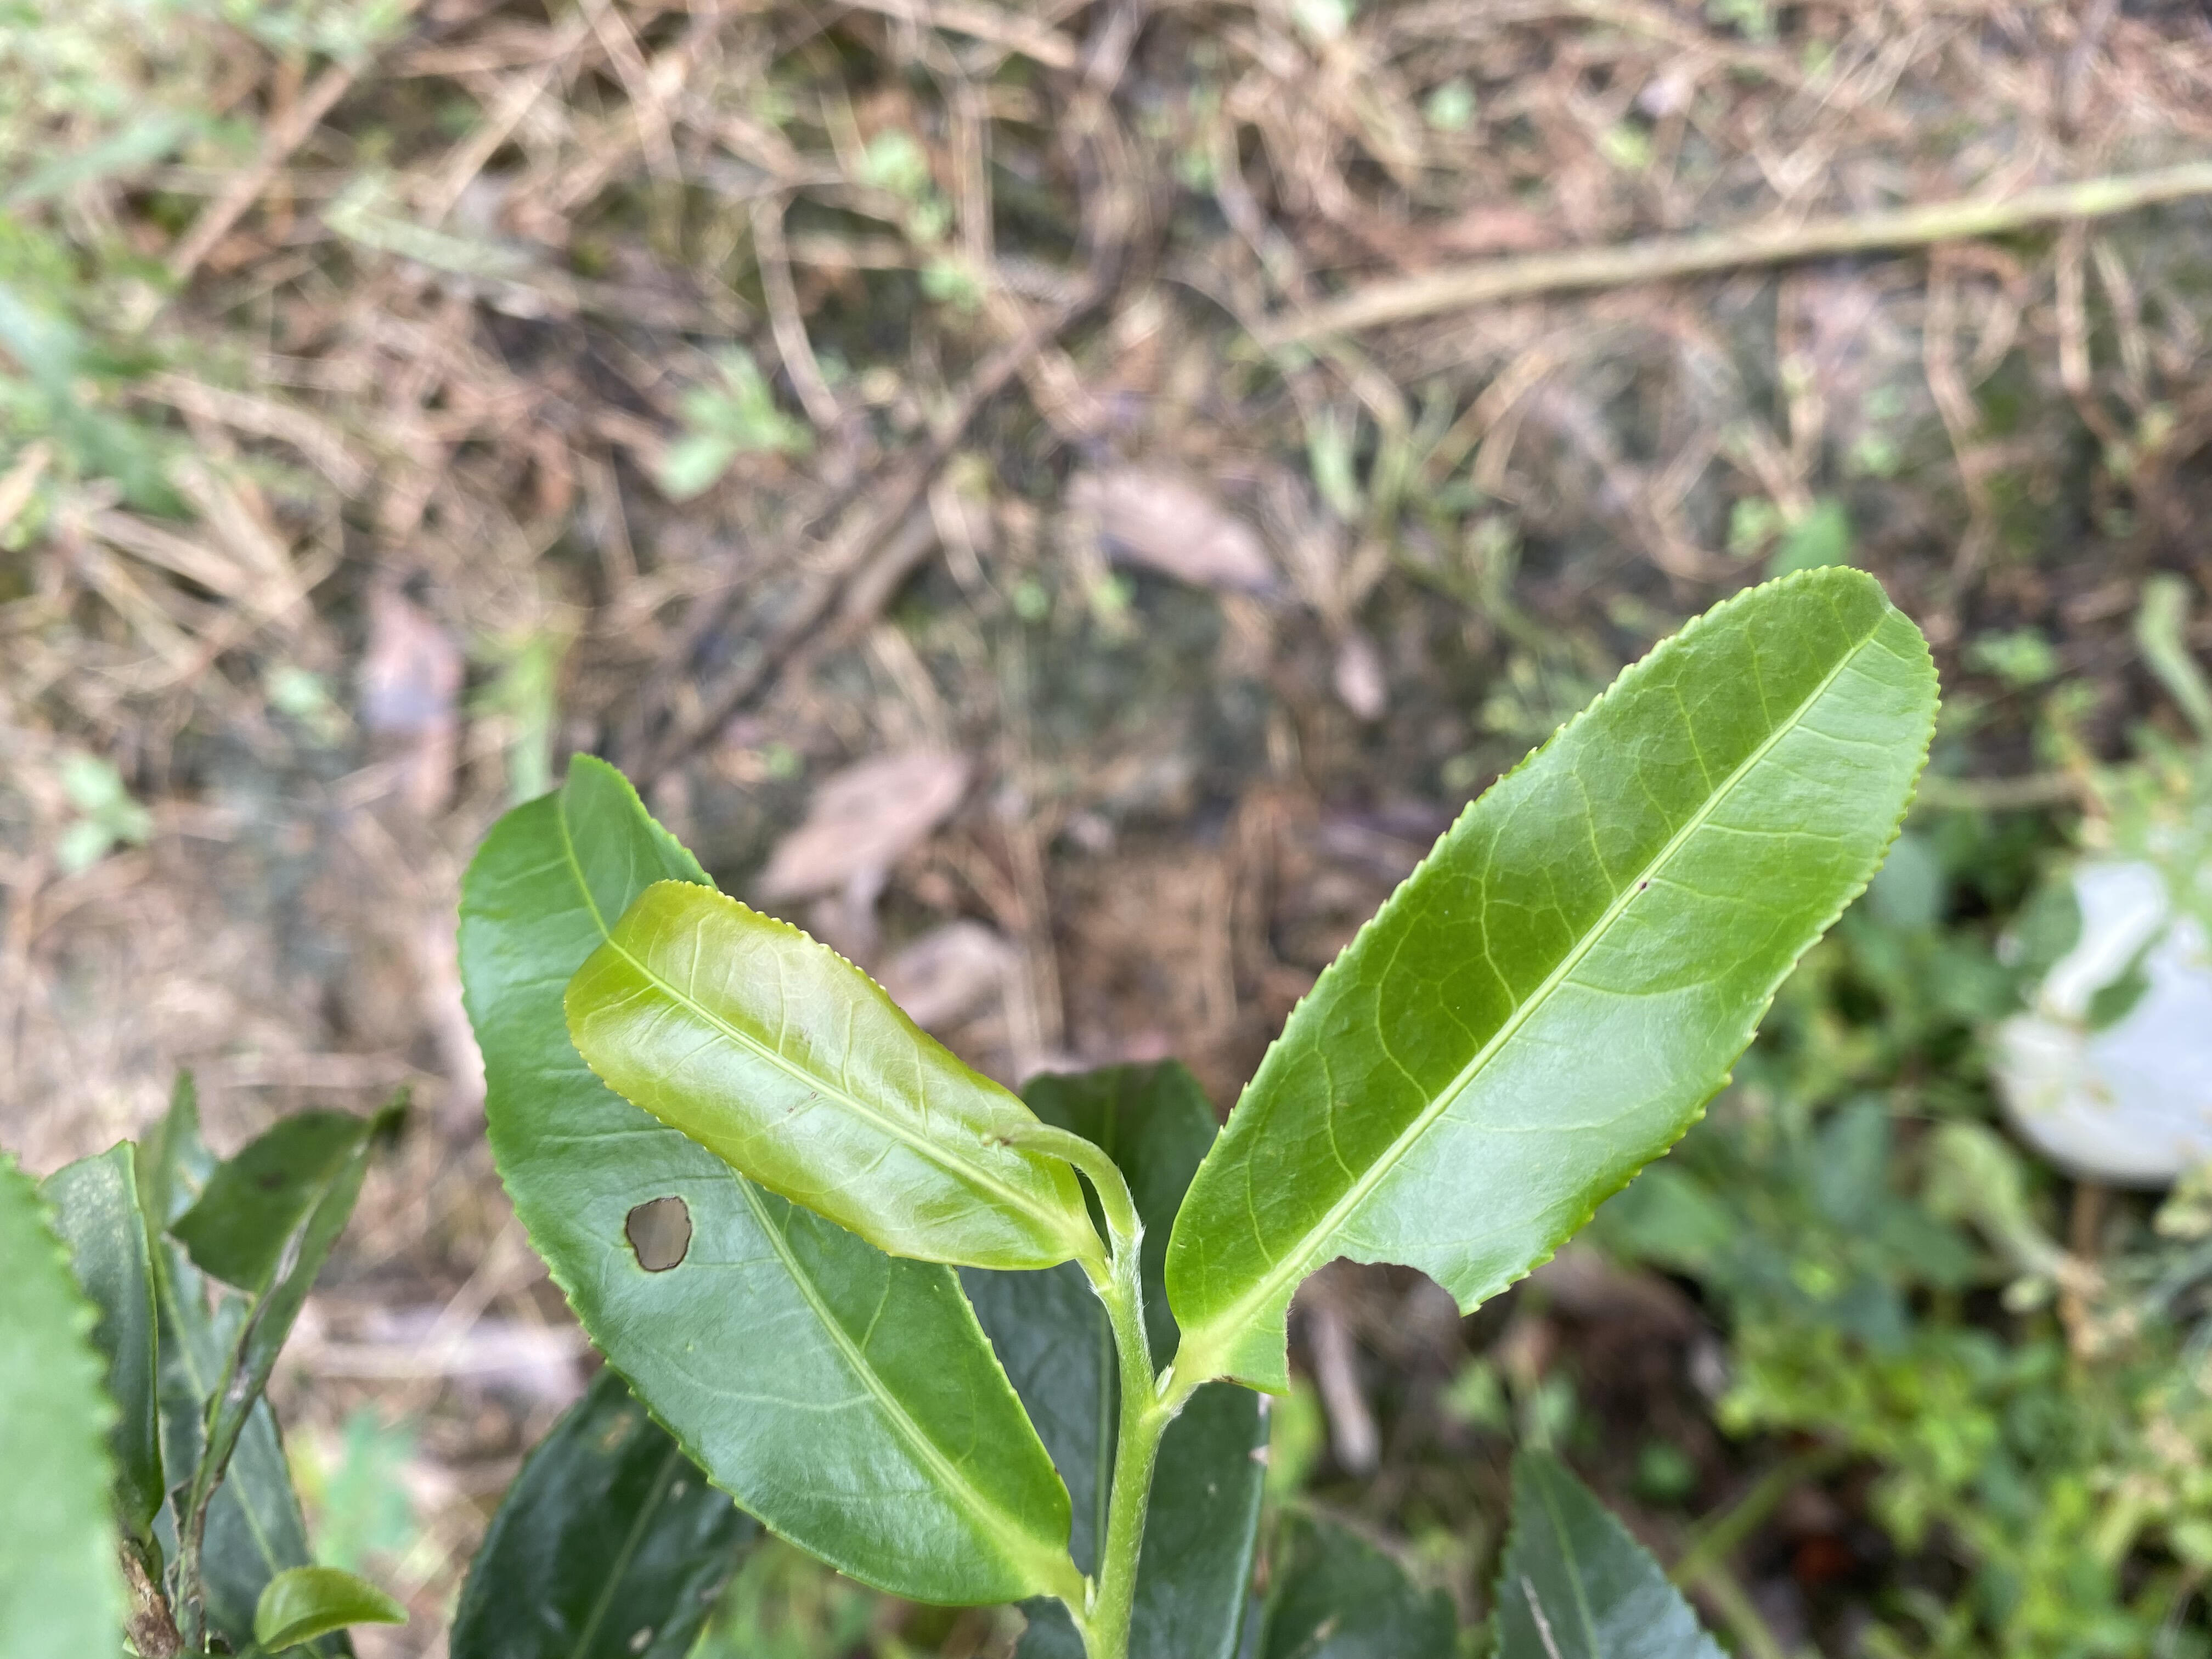chihuo_low: (1163, 563, 1940, 1399), (456, 749, 1073, 1603)
tanju_low: (563, 877, 1089, 1270)
